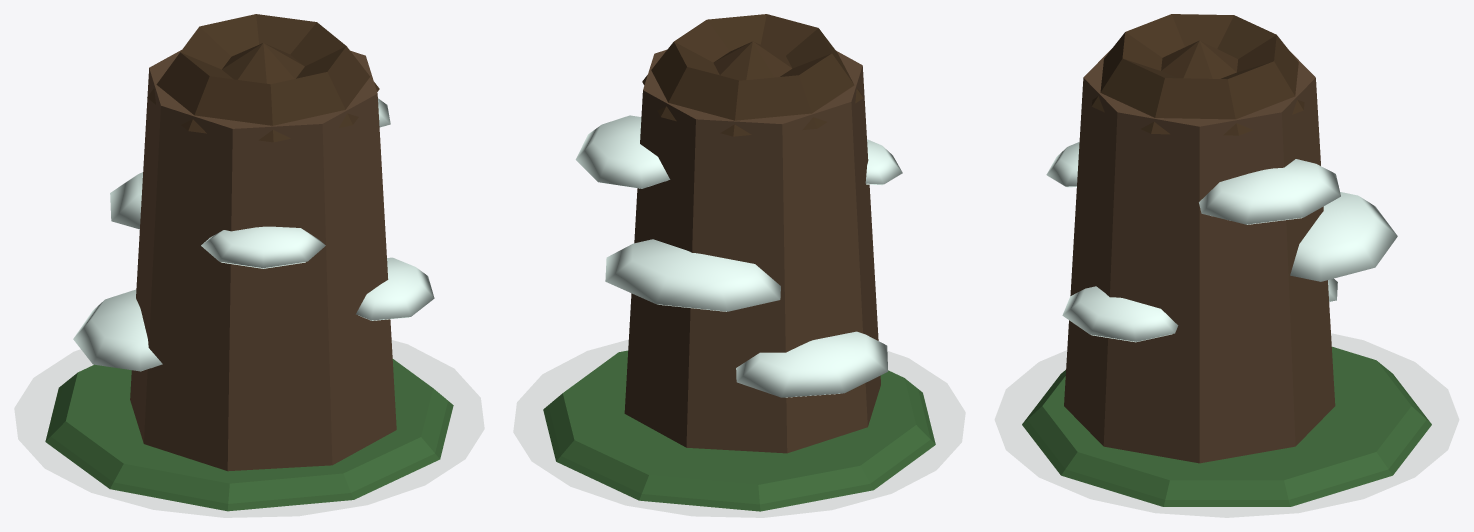
The model's file is glow_shelf.glb.
3 views of the same model, side by side, from view 1: azimuth 30°, elevation 25°; view 2: azimuth 150°, elevation 25°; view 3: azimuth 270°, elevation 25° (orthographic). The views are drawn at different scales.
Parts seen in each view (by area): view 1: glow_shelf; view 2: glow_shelf; view 3: glow_shelf.
Part boxes in pixels (x1,y1,x2,y2): glow_shelf: [45, 14, 453, 511]; glow_shelf: [543, 14, 935, 511]; glow_shelf: [1022, 14, 1431, 506].
Size of the model in its own units: 0.68 by 0.62 by 0.68.
